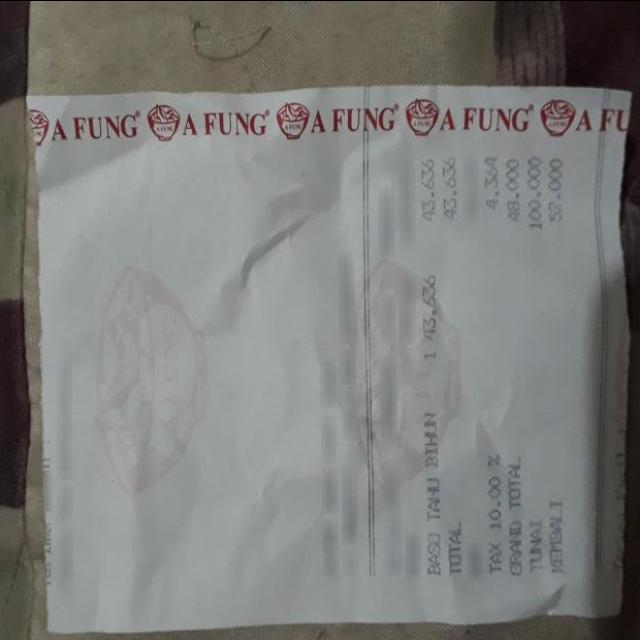kertas: (28, 79, 640, 633)
